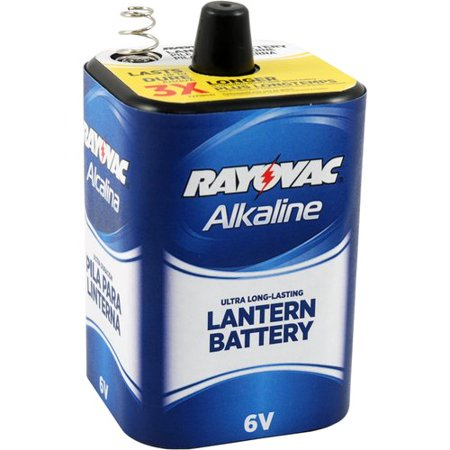6V: (78, 7, 366, 449)
